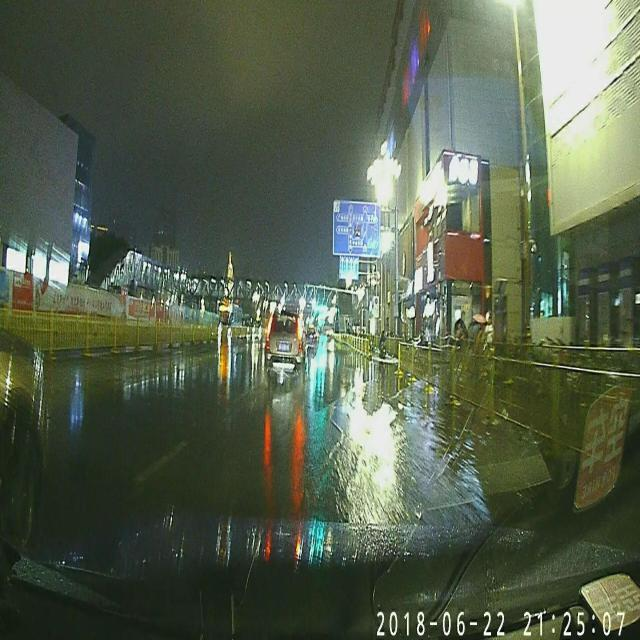car: (264, 308, 308, 370)
